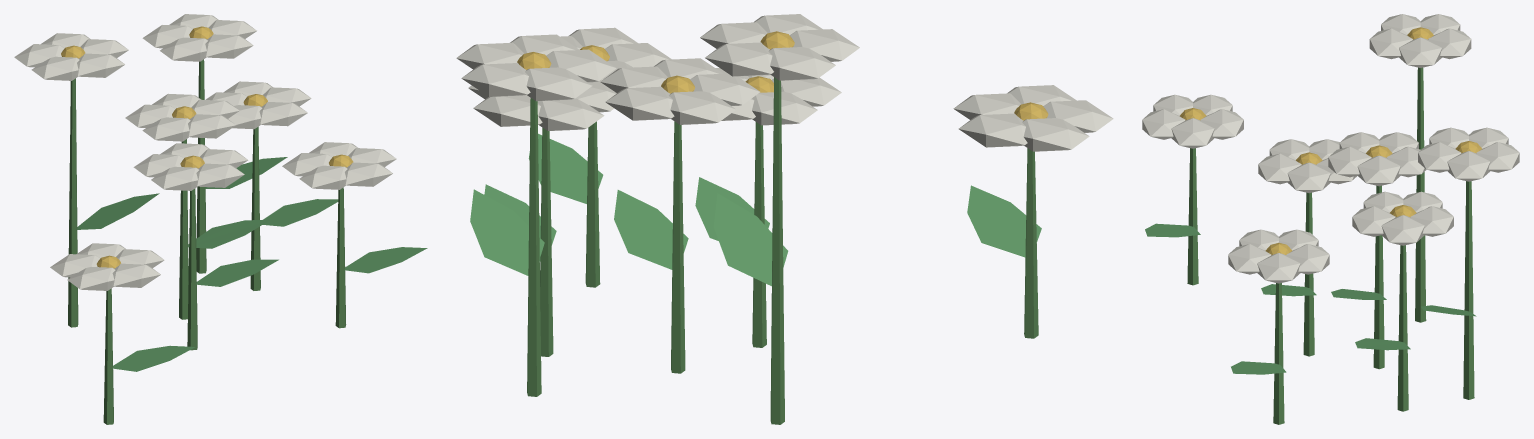
Rendered from flowers-01.glb.
The picture shows the model from 3 angles, left to right: view 1: azimuth 30°, elevation 25°; view 2: azimuth 150°, elevation 25°; view 3: azimuth 270°, elevation 25°; orthographic projection. The views are drawn at different scales.
Visible parts, largest first — view 1: part_000; view 2: part_000; view 3: part_000.
Boxes of the visible parts, <box> form: part_000: <box>14,14,427,424</box>; part_000: <box>456,14,1113,424</box>; part_000: <box>1142,14,1519,424</box>.
Size of the model in its own units: 0.7084 by 0.4936 by 0.5789.
